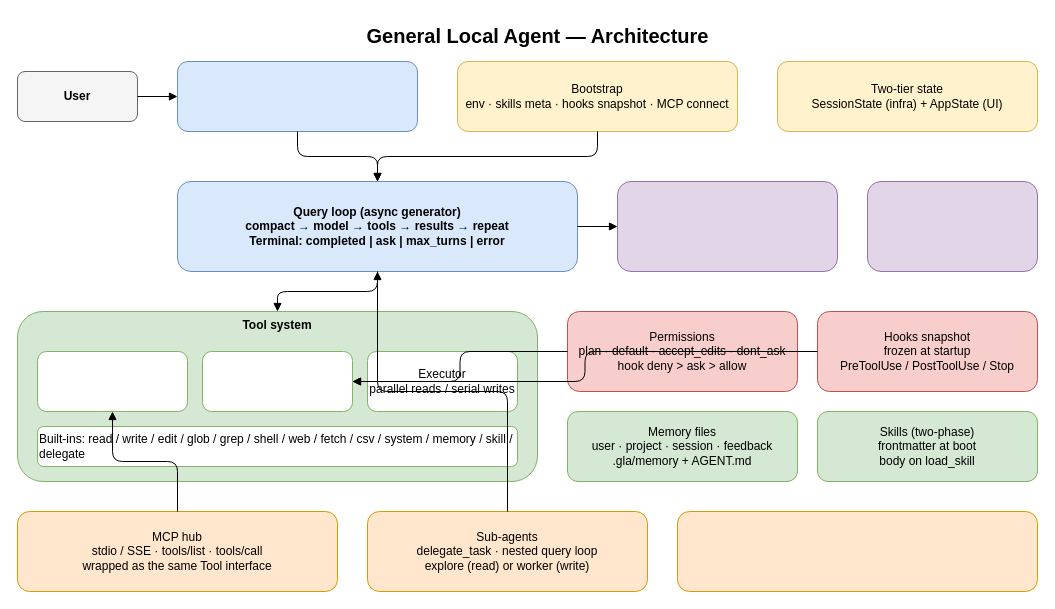
This 1055x609 diagram has some shape labels left out. Each missing label, with the centre of its shape:
Context compact snip → microcompact → collapse: pixel 857 551
Gemini client sticky model latch slot reservation 8K→64K: pixel 727 226
Gradio UI (app.py) chat · trace · permission mode: pixel 297 96
Pipeline validate · hook · permit: pixel 277 381
Registry self-describing tools: pixel 112 381
System prompt AGENT.md + recalled memory + skill menu: pixel 952 226
